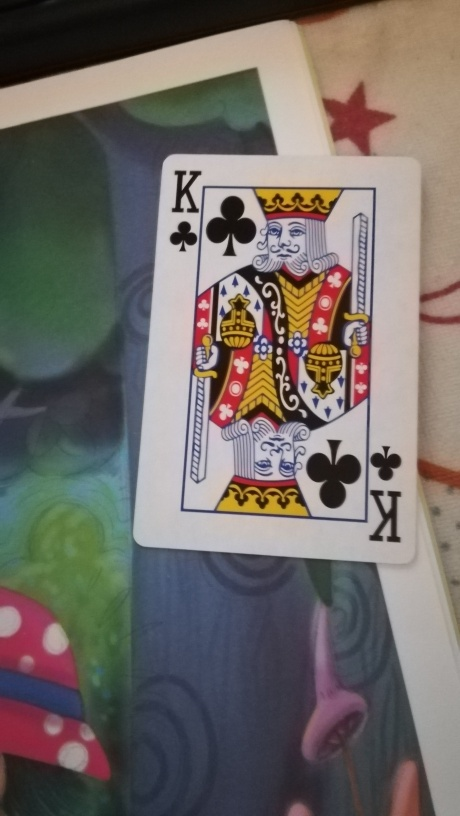mh k: (132, 151, 421, 567)
